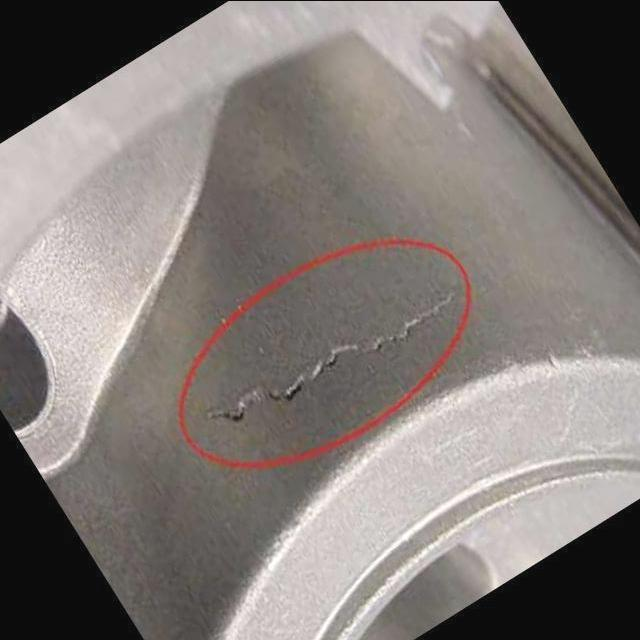defect: (197, 282, 462, 428)
